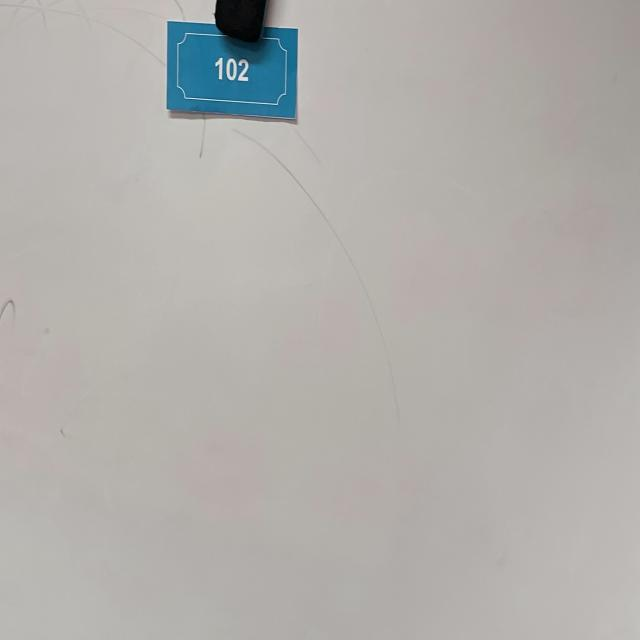Card: (162, 7, 310, 124)
